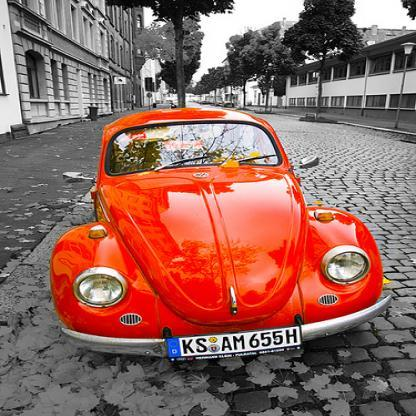car: (46, 102, 398, 363)
